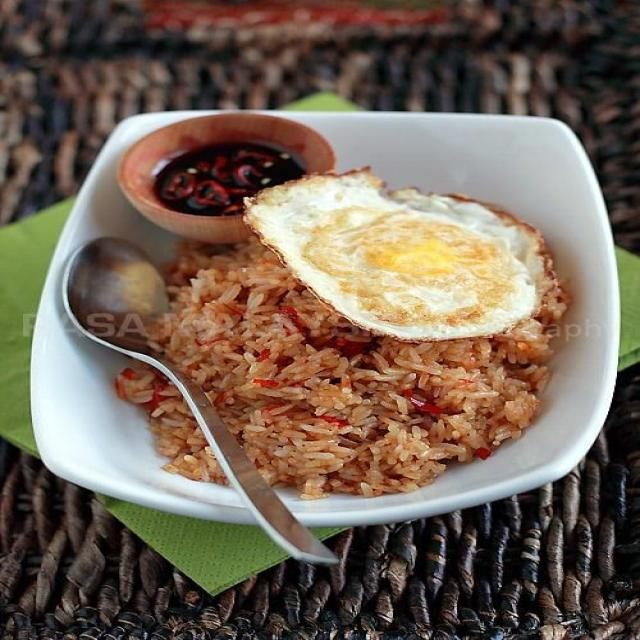Nasi Goreng: (124, 223, 549, 470)
